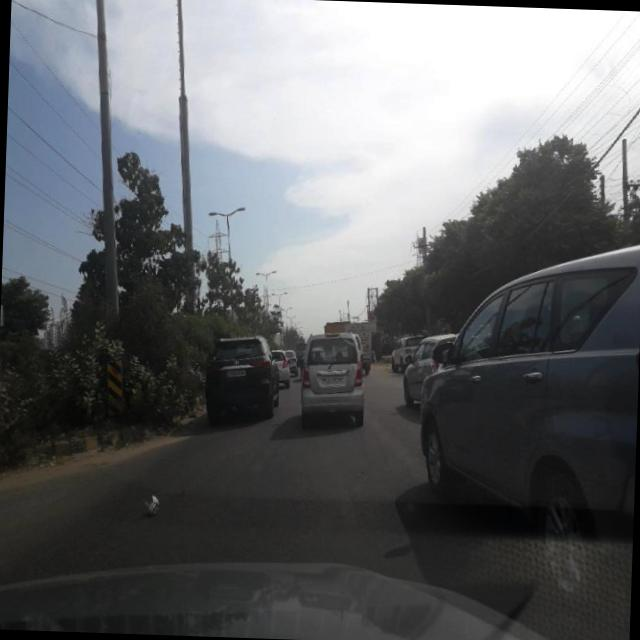crack: (25, 415, 412, 579)
